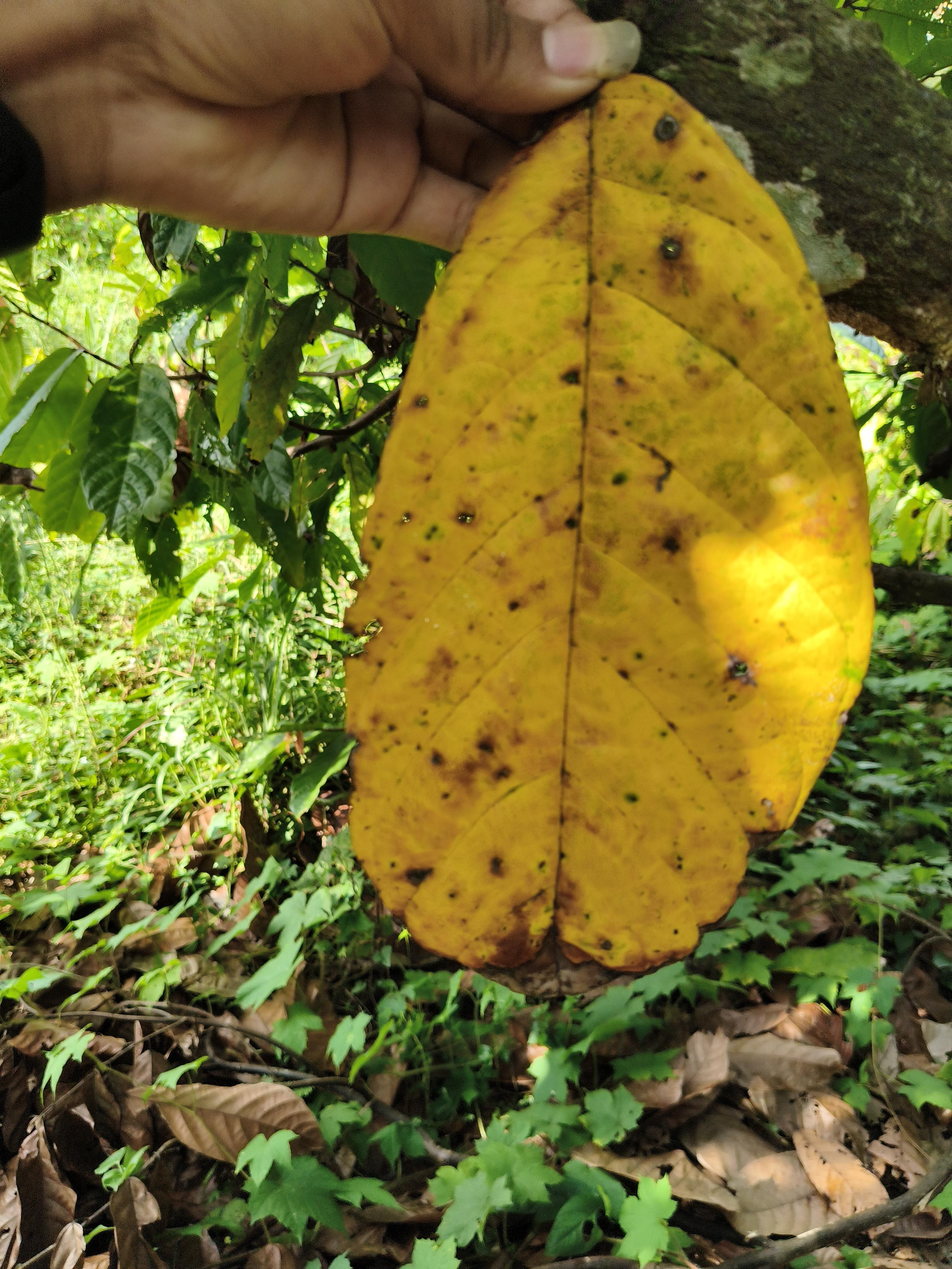deficiencia_potasio: (337, 69, 873, 975)
